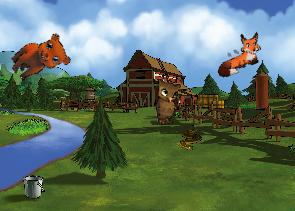bear: (5, 26, 75, 93)
fox: (208, 28, 269, 80)
owl: (152, 76, 186, 126)
